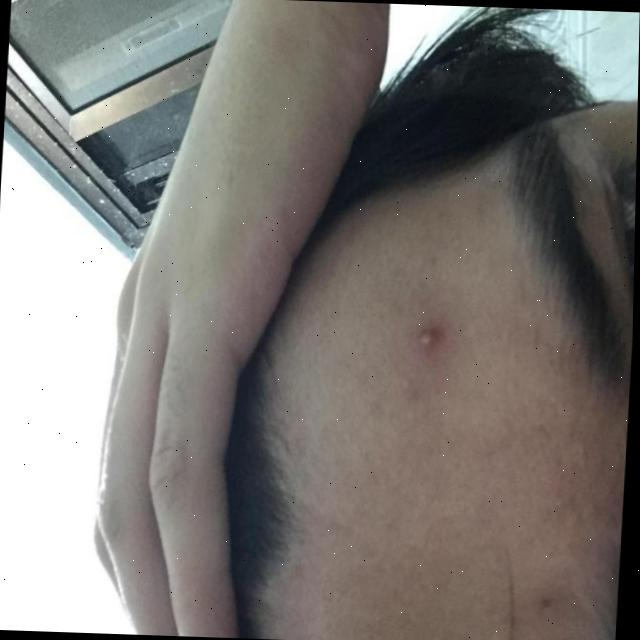Acne: (407, 321, 441, 349), (536, 596, 556, 616)
